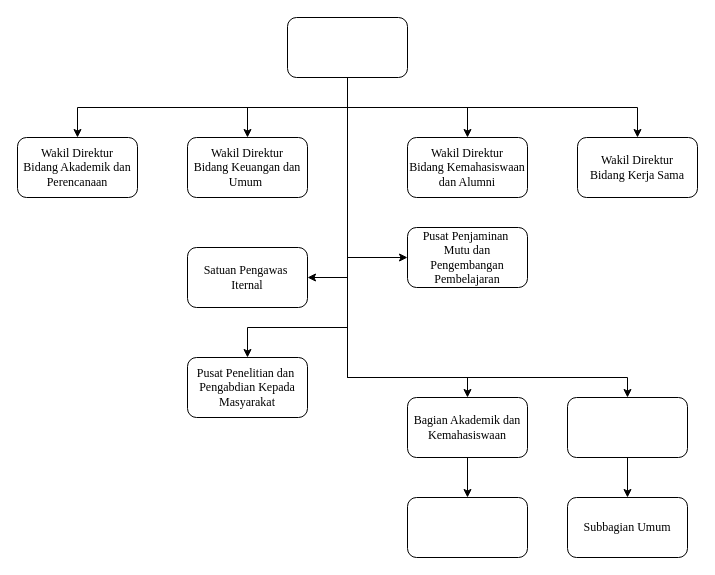
This 715x575 diagram has some shape labels left out. Each missing label, with the centre of its shape:
"Bagian Keuangan dan Umum" goes at pixel 627 427.
"Direktur" goes at pixel 347 47.
"Subbagian Akademik" goes at pixel 467 527.
